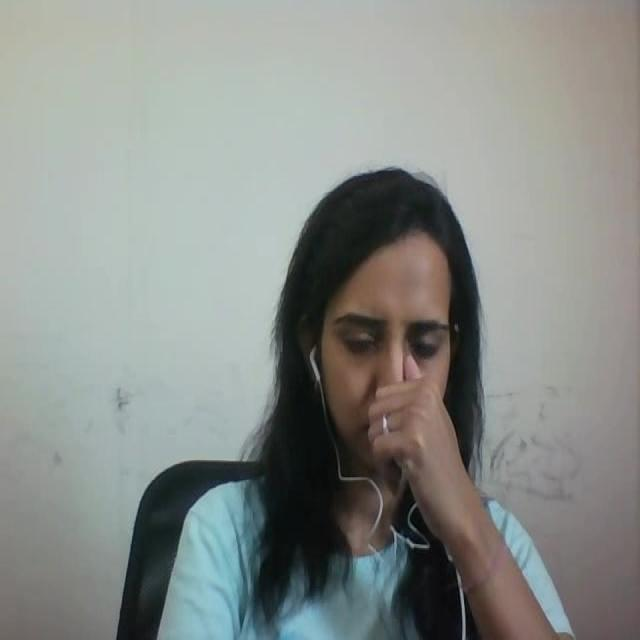Bored: (254, 144, 495, 503)
